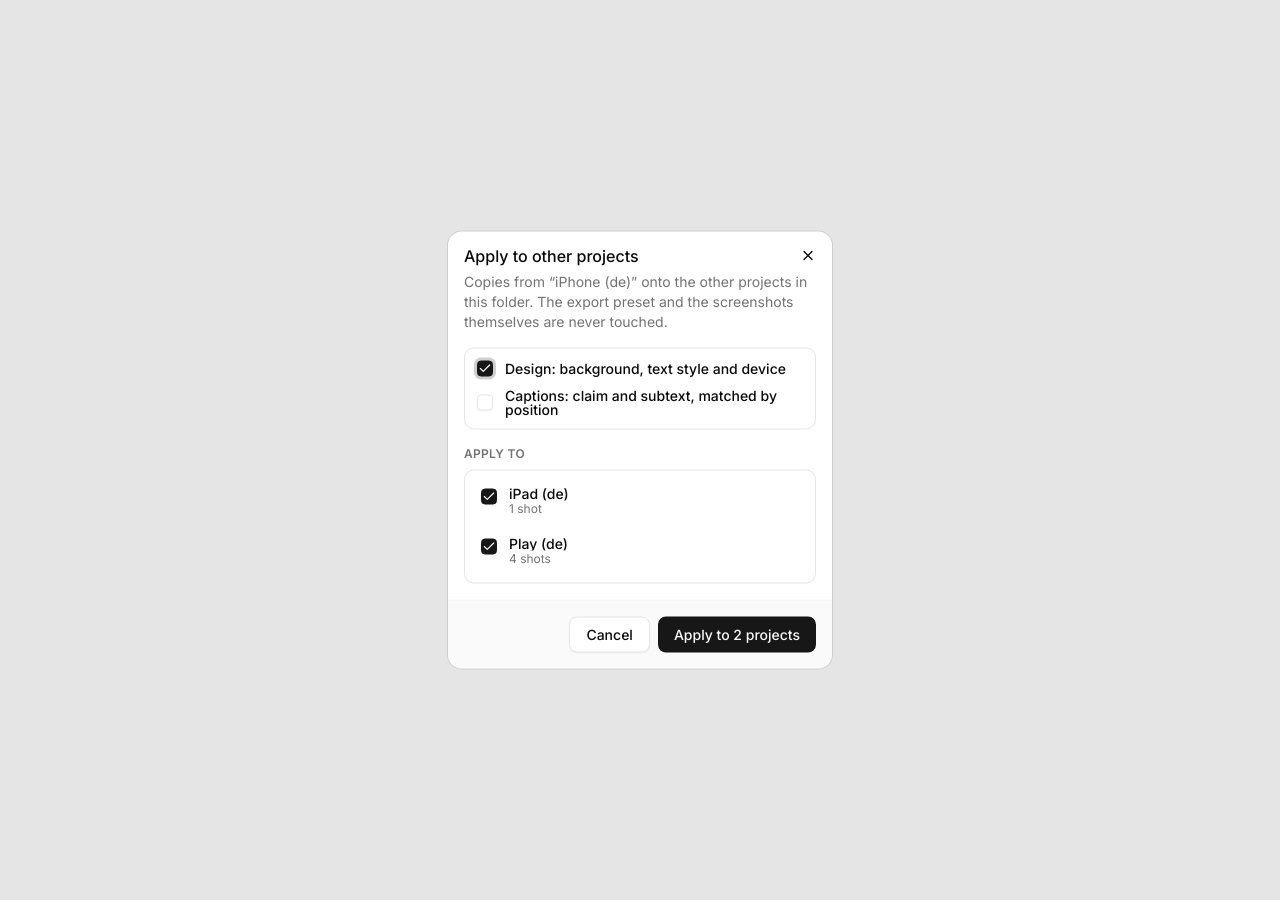
Scenario: ApplyToSiblingsDialog › blocks submitting with nothing selected or nothing to copy
Click the checkbox "Design: background, text style and device" at [640, 368], box [477, 360, 803, 376]
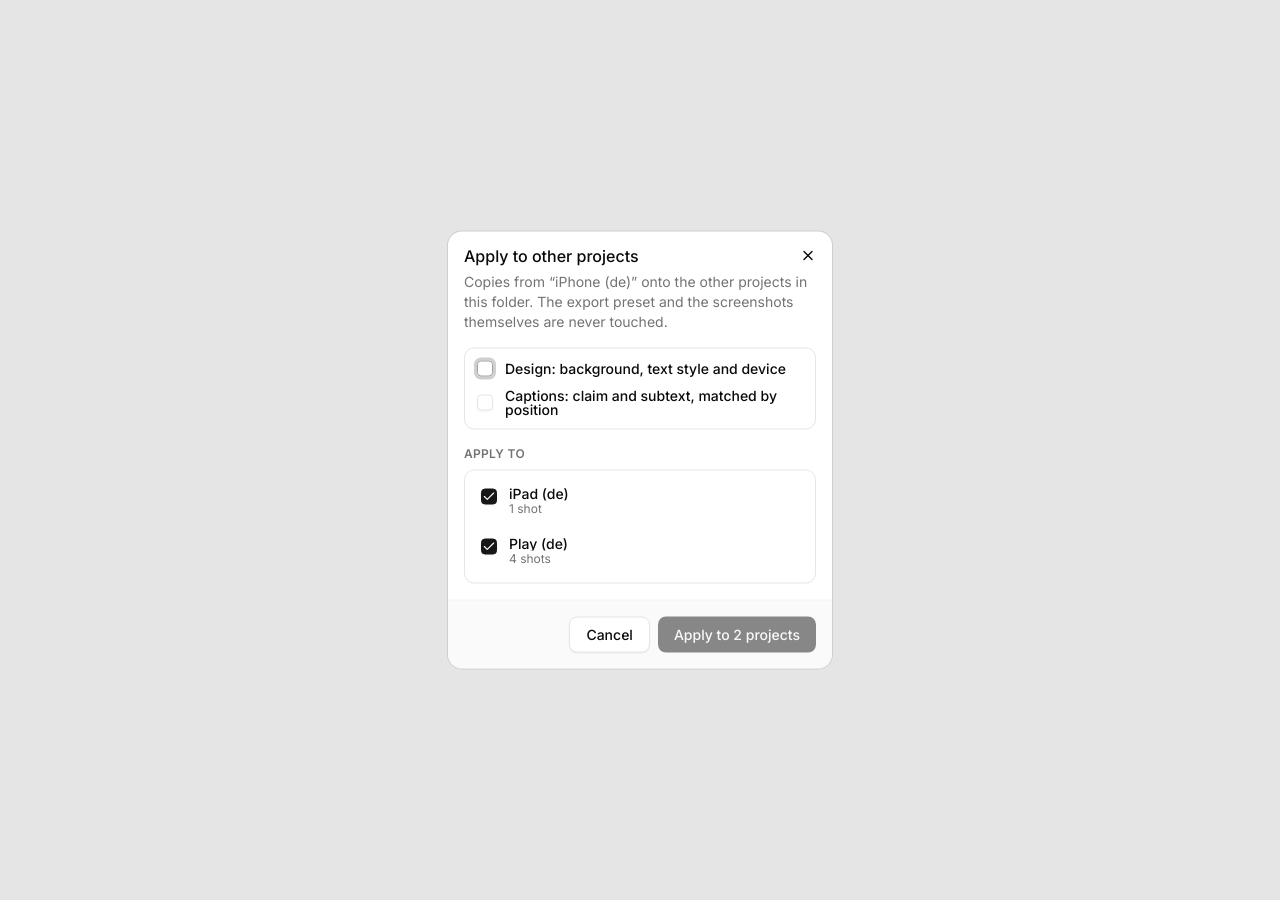
Expected: the button "Apply to 2 projects" is disabled, [658, 616, 816, 652]
Click the checkbox "Captions: claim and subtext, matched by position" at [640, 402], box [477, 388, 803, 416]
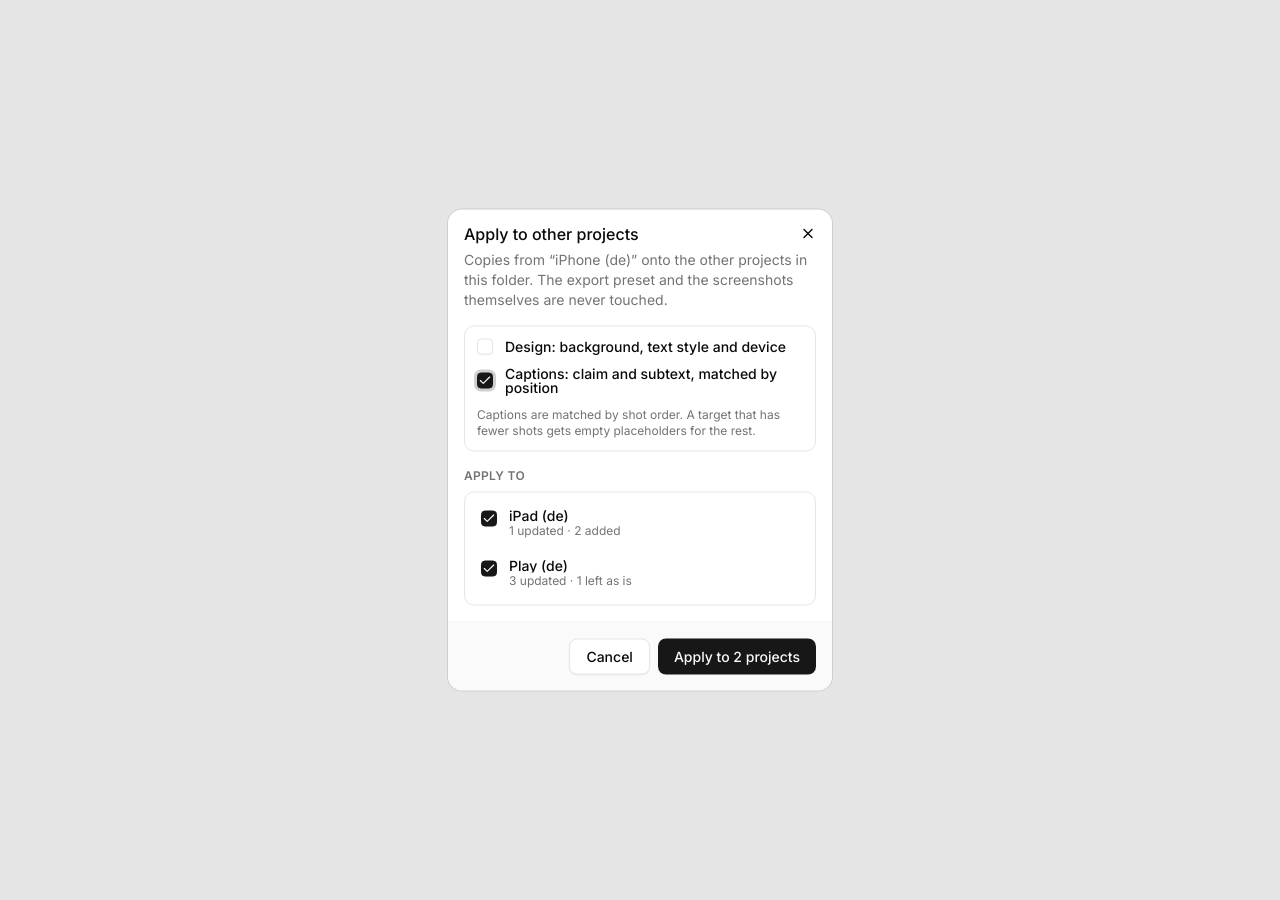
Expected: the button "Apply to 2 projects" is enabled, [658, 638, 816, 674]
Click the text "iPad (de)" at [539, 515], box [509, 506, 569, 524]
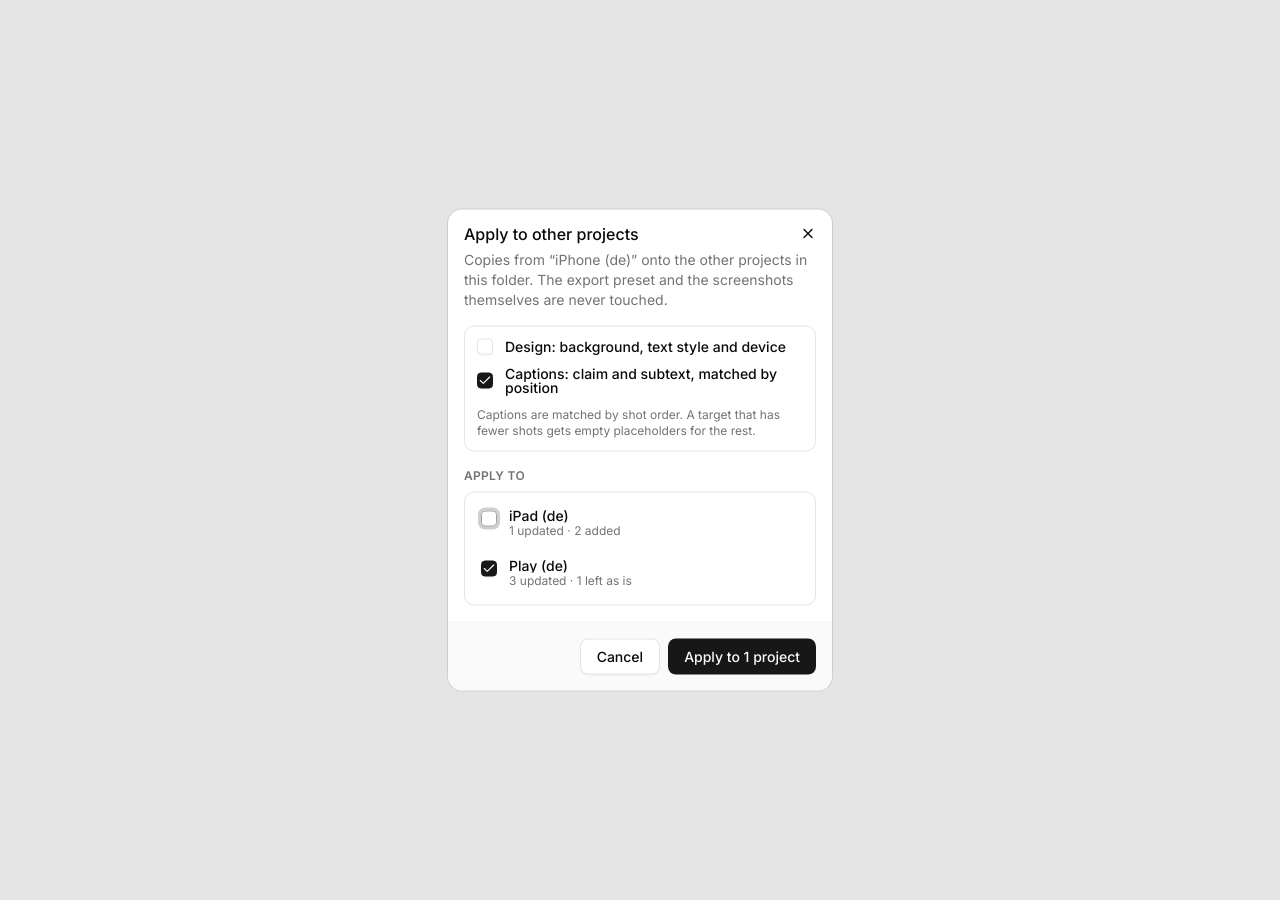
Click the text "Play (de)" at [538, 565], box [509, 556, 568, 574]
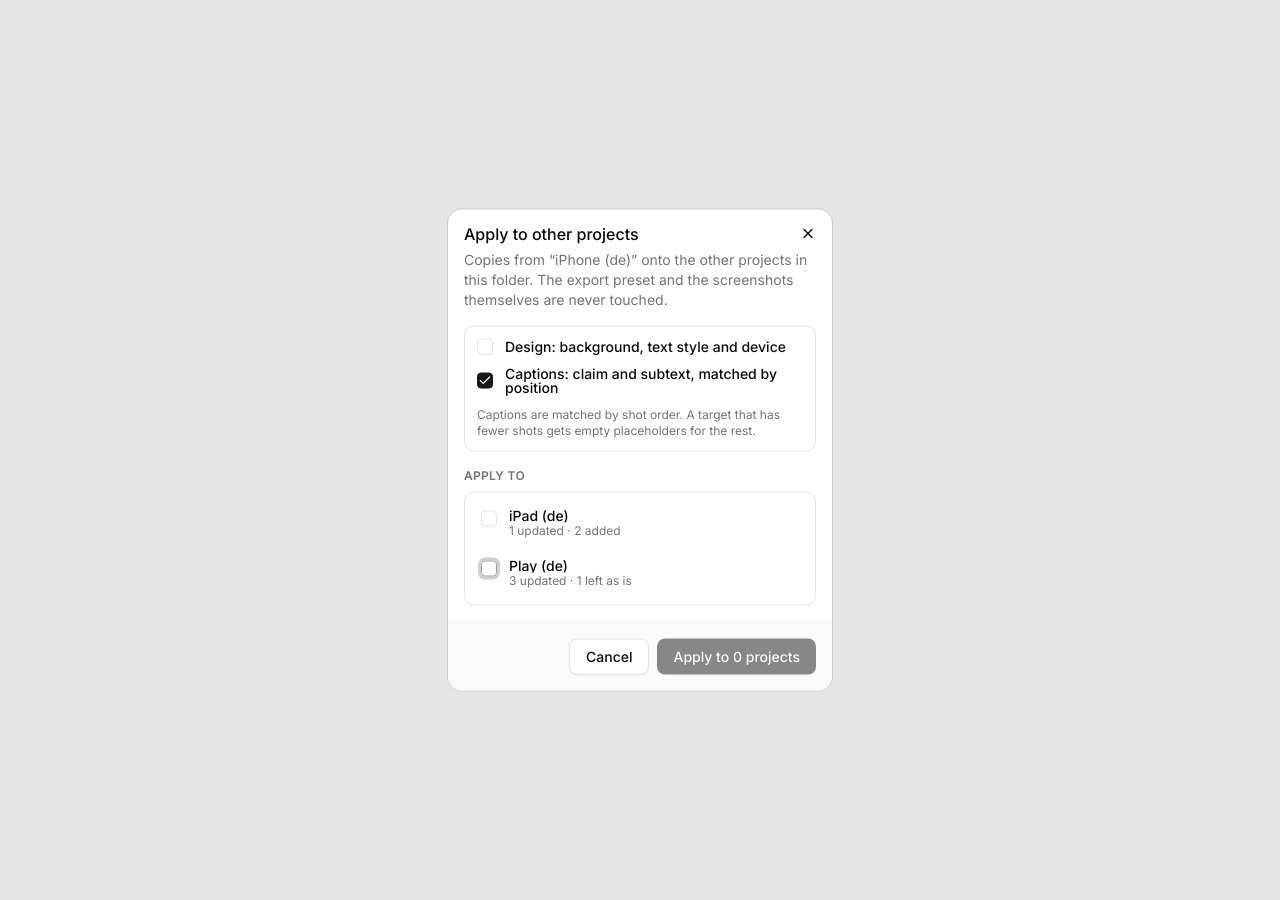
Expected: the button "Apply to 0 projects" is disabled, [658, 638, 816, 674]
